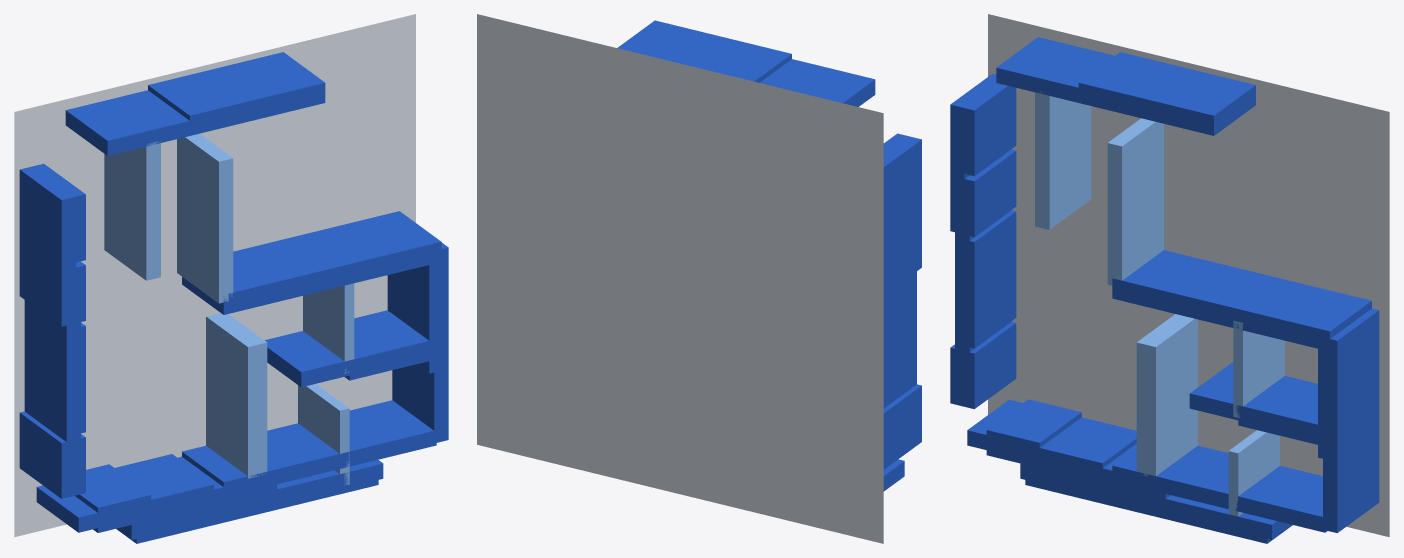
Rendered from 123a9455-8f54-4ef1-9dd9-8634da4afa26.obj.
The picture shows the model from 3 angles, left to right: view 1: azimuth 30°, elevation 25°; view 2: azimuth 150°, elevation 25°; view 3: azimuth 330°, elevation 25°; orthographic projection.
Bounding box in the file's own units: 16.6 × 16.8 × 3.05.
